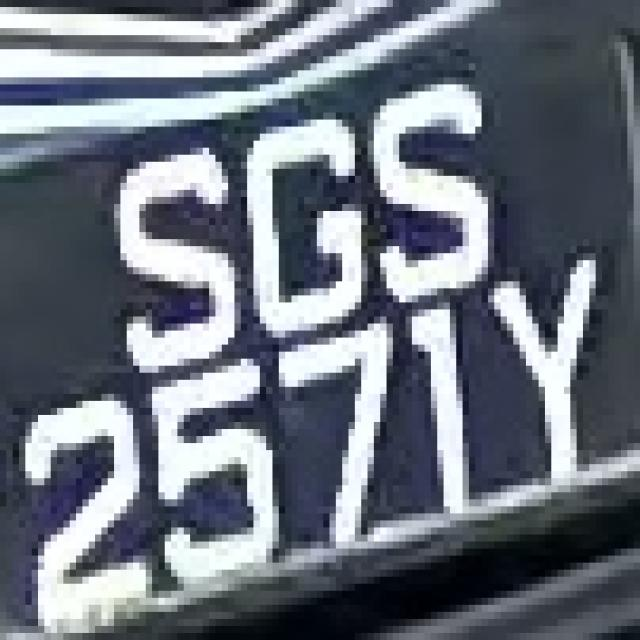1: (405, 302, 488, 534)
2: (7, 373, 158, 633)
5: (152, 366, 311, 598)
7: (253, 309, 412, 542)
G: (228, 91, 374, 359)
S: (355, 63, 481, 310), (101, 140, 222, 387)
Y: (482, 268, 602, 500)
